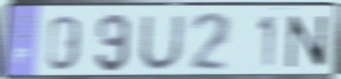0: (45, 13, 83, 74)
1: (255, 13, 276, 71)
2: (188, 10, 234, 74)
9: (94, 12, 133, 75)
N: (285, 13, 329, 70)
U: (137, 13, 186, 73)
